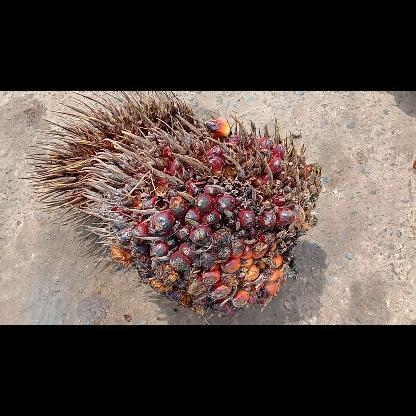Janjang kosong: (22, 90, 197, 240)
TBS masak: (79, 113, 319, 317)
